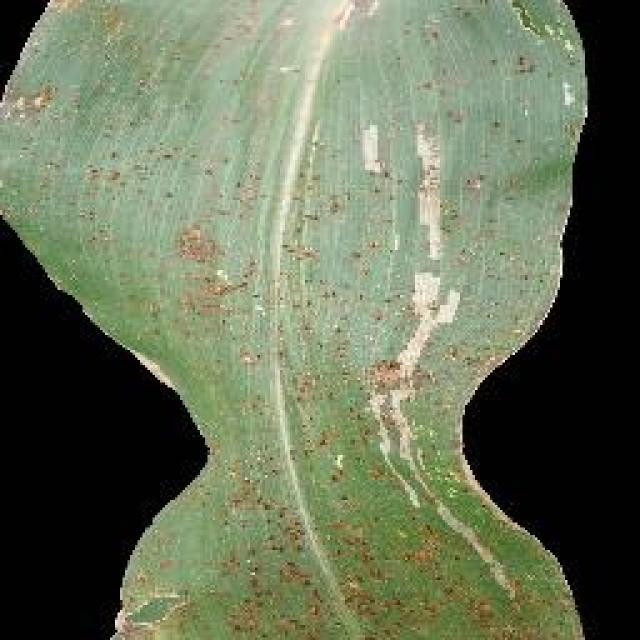Corn Common Rust: (78, 123, 552, 570)
